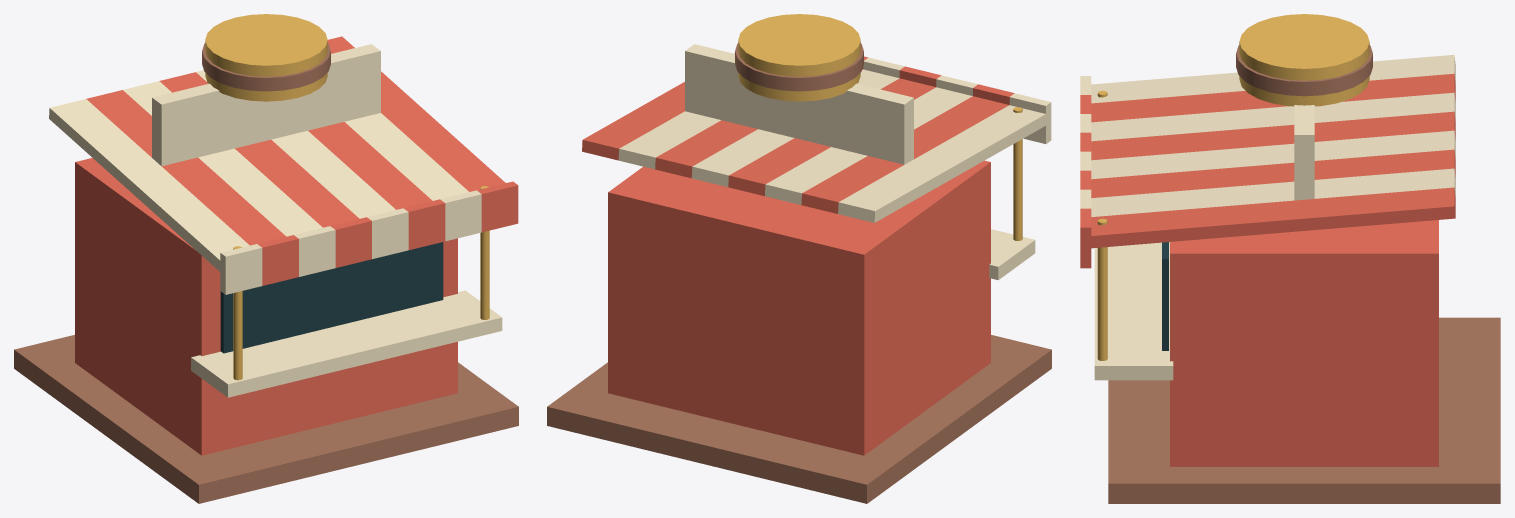
Rendered from stall_food.glb.
3 views of the same model, side by side, from view 1: azimuth 30°, elevation 25°; view 2: azimuth 150°, elevation 25°; view 3: azimuth 270°, elevation 25° (orthographic). The views are drawn at different scales.
Parts seen in each view (by area): view 1: stall_food; view 2: stall_food; view 3: stall_food.
Boxes of the visible parts, x1=… form: stall_food: x1=14, y1=14, x2=518, y2=503; stall_food: x1=547, y1=14, x2=1051, y2=503; stall_food: x1=1080, y1=14, x2=1500, y2=503.
Bounding box in the file's own units: 3.5 × 3.74 × 3.75.
